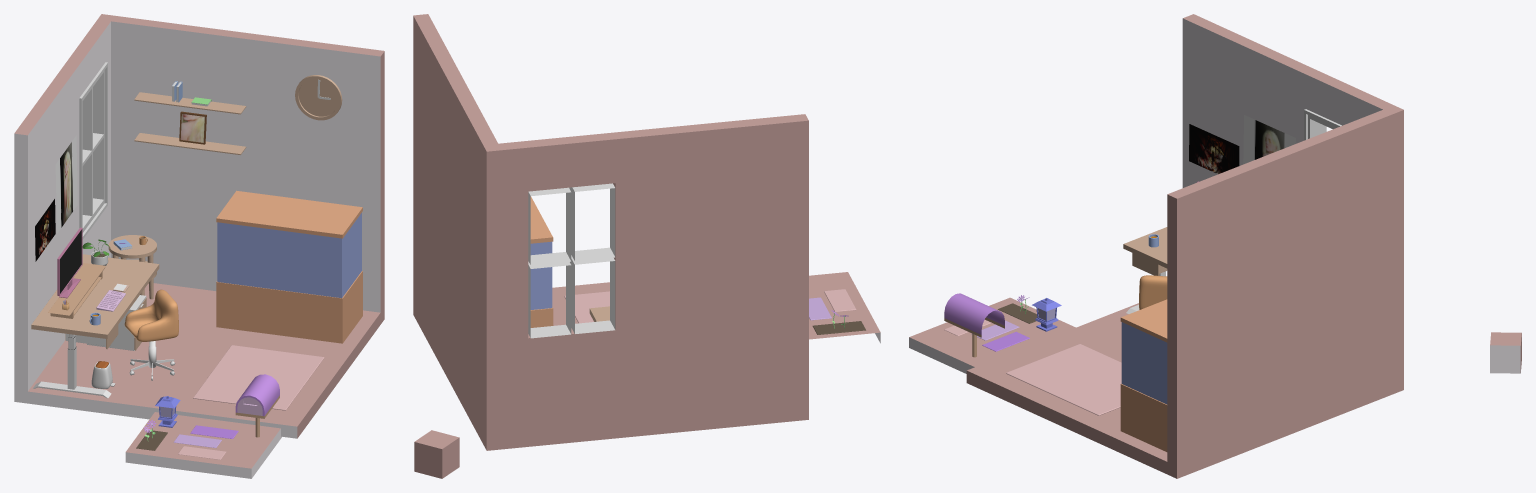
3 renders of one model, left to right at view 1: azimuth 30°, elevation 25°; view 2: azimuth 150°, elevation 25°; view 3: azimuth 270°, elevation 25°, orthographic. The views are drawn at different scales.
Visible parts, largest first — view 1: Body, Aquarium, Desks, Floor Items, Mini Floor, Shelves, Table Stufff, Chair, Clock, Poster_2, Mailbox, Computer (+6 smaller); view 2: Body, Mini Floor, Aquarium, Cube.002, Floor Items, Dirt, FloorThird; view 3: Body, Aquarium, Floor Items, Mini Floor, Poster_1, Mailbox, Poster_2, Desks, Cube.002, Chair, Lamp.
Part boxes in pixels (x1,y1,x2,y2): Body: (14, 14, 384, 438); Aquarium: (216, 190, 362, 343); Desks: (31, 235, 159, 398); Floor Items: (87, 295, 324, 410); Mini Floor: (125, 412, 281, 478); Shelves: (134, 81, 246, 154); Table Stufff: (48, 236, 147, 325); Chair: (124, 289, 178, 341); Clock: (295, 75, 342, 120); Poster_2: (55, 135, 77, 233); Mailbox: (235, 374, 279, 437); Computer: (57, 227, 82, 298); Body: (413, 14, 808, 450); Mini Floor: (809, 272, 880, 343); Aquarium: (530, 196, 553, 327); Cube.002: (414, 430, 459, 478); Floor Items: (564, 291, 609, 323); Dirt: (812, 321, 865, 334); FloorThird: (824, 289, 856, 311); Body: (966, 14, 1403, 478); Aquarium: (1120, 299, 1167, 451); Floor Items: (1006, 344, 1121, 415); Mini Floor: (909, 297, 1075, 373); Poster_1: (1189, 124, 1239, 174); Mailbox: (944, 293, 1004, 357); Poster_2: (1243, 115, 1295, 164); Desks: (1123, 227, 1167, 313); Cube.002: (1490, 332, 1521, 373); Chair: (1139, 275, 1167, 309); Lamp: (1032, 298, 1061, 331).
Size of the model in its own units: 27.58 by 19.65 by 38.64.
42 materials, 3 textured.
